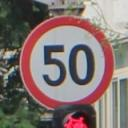speed_limit_50: (22, 16, 114, 110)
